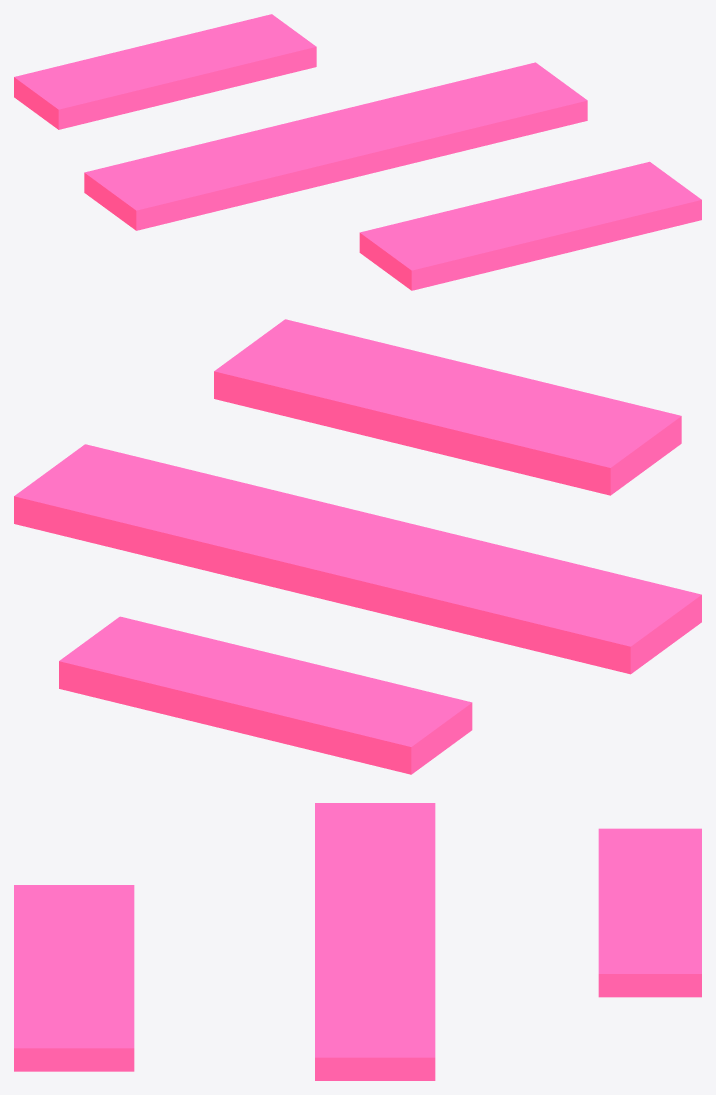
The model's file is shine.glb.
3 views of the same model, one above another, from view 1: azimuth 30°, elevation 25°; view 2: azimuth 150°, elevation 25°; view 3: azimuth 270°, elevation 25° (orthographic). The views are drawn at different scales.
Visible parts, largest first — view 1: Shine; view 2: Shine; view 3: Shine.
Part boxes in pixels (bbox=[...]): Shine: bbox=[14, 14, 701, 290]; Shine: bbox=[14, 319, 701, 774]; Shine: bbox=[14, 803, 701, 1080].
Bounding box in the file's own units: 0.7 × 0.03 × 0.8.
